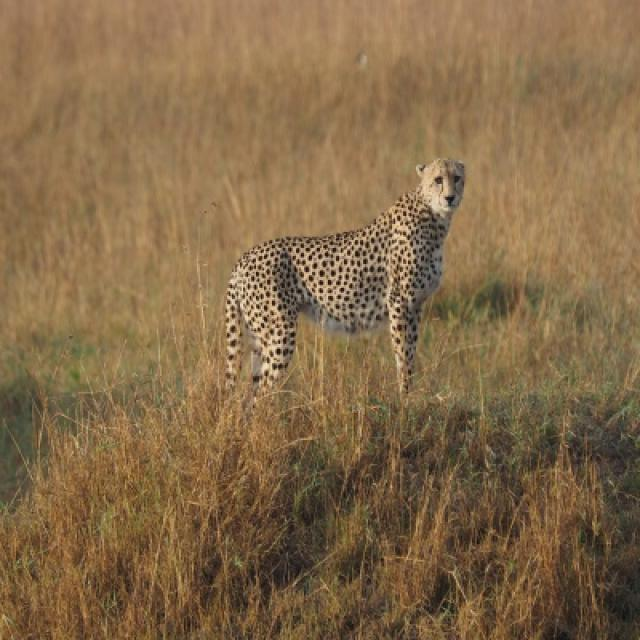Cheetah: (226, 160, 466, 398)
